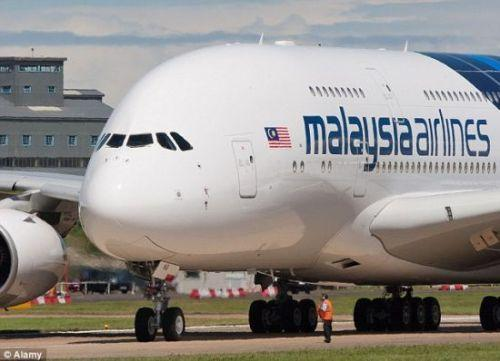airplane: (73, 39, 500, 277)
